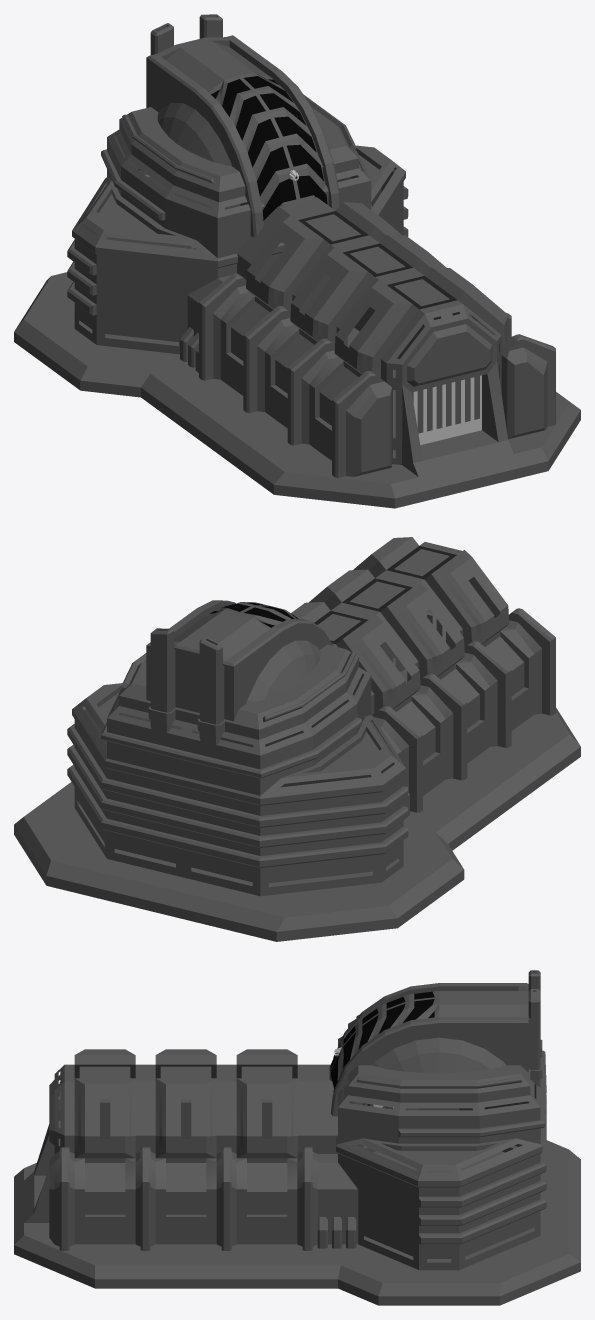
The model's file is cyberneticfactory.dae.
3 views of the same model, one above another, from view 1: azimuth 30°, elevation 25°; view 2: azimuth 150°, elevation 25°; view 3: azimuth 270°, elevation 25° (orthographic). The views are drawn at different scales.
Visible parts, largest first — view 1: cyberneticfactory; view 2: cyberneticfactory; view 3: cyberneticfactory.
Part boxes in pixels (x1,y1,x2,y2): cyberneticfactory: (14, 14, 580, 508); cyberneticfactory: (14, 537, 580, 941); cyberneticfactory: (14, 970, 580, 1305).
Size of the model in its own units: 32.85 by 45.98 by 21.35.
